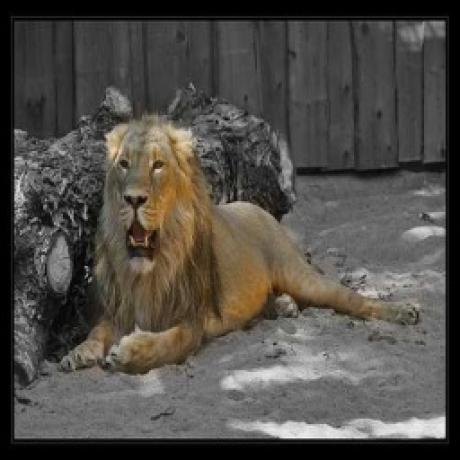Lion: (60, 112, 424, 378)
